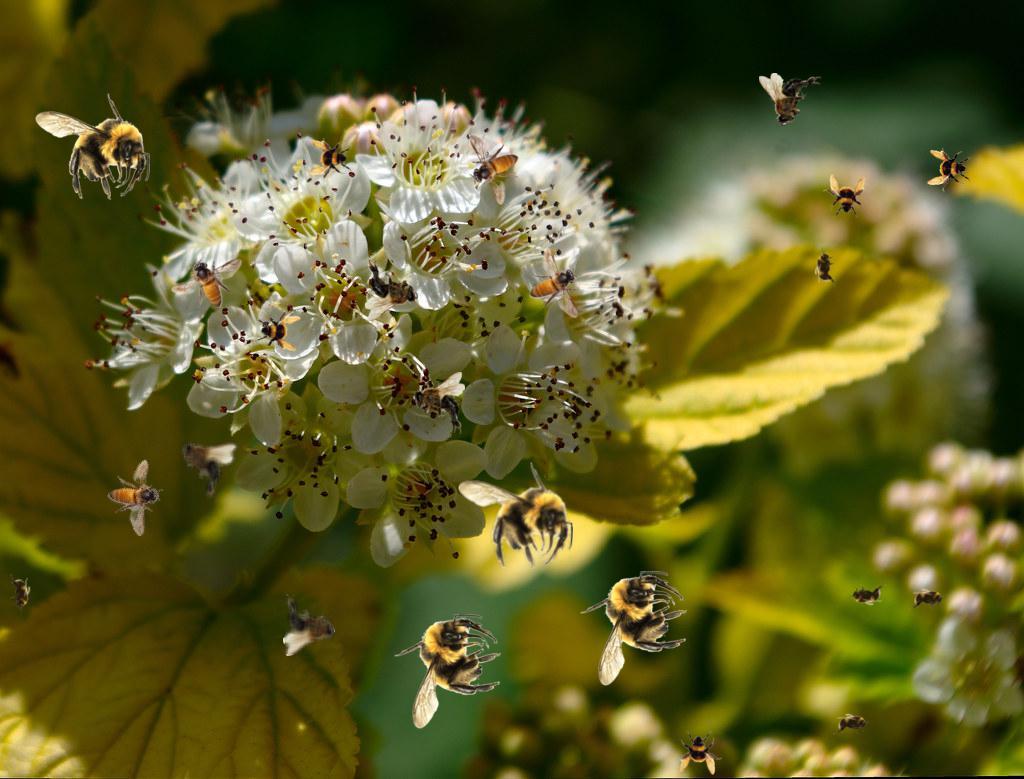Bee: (394, 614, 501, 729), (35, 93, 150, 200), (458, 462, 573, 569), (580, 571, 687, 686), (97, 451, 175, 538), (166, 423, 241, 503), (529, 247, 579, 318), (469, 134, 519, 205), (171, 258, 242, 308), (365, 259, 418, 321), (283, 594, 336, 656), (759, 73, 821, 126), (412, 372, 465, 434), (254, 306, 302, 354), (678, 731, 722, 775), (823, 174, 867, 218), (308, 138, 352, 182), (927, 148, 971, 192), (8, 573, 32, 615), (846, 584, 886, 606), (909, 588, 949, 610), (814, 247, 836, 287), (833, 713, 873, 735)
